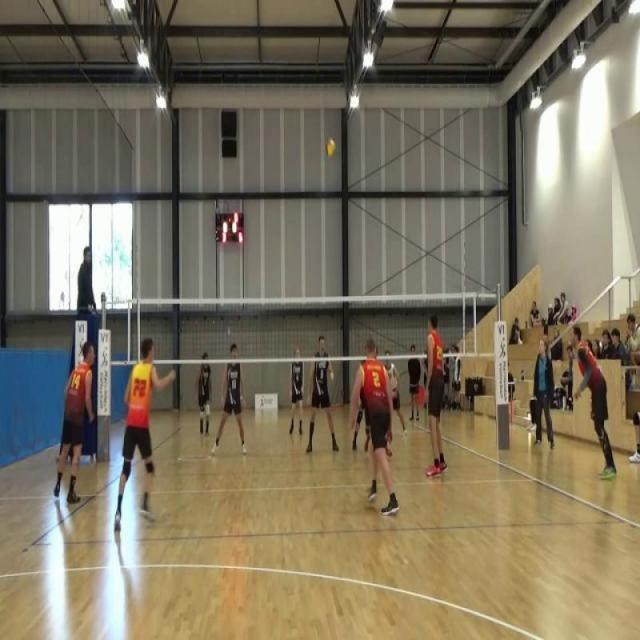volleyball: (324, 136, 337, 159)
